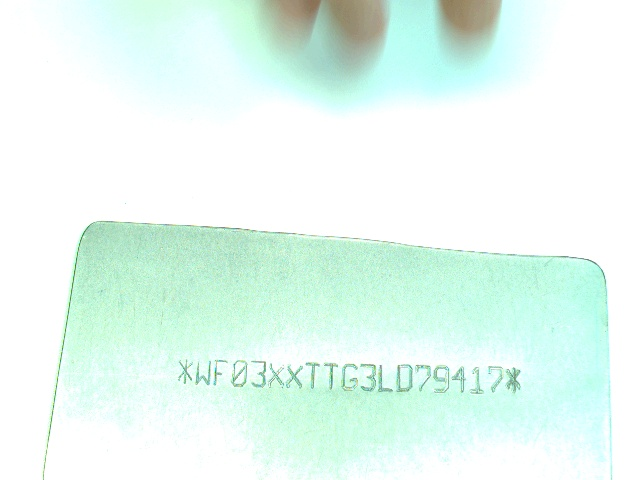0: (231, 359, 248, 388)
1: (469, 365, 486, 395)
3: (249, 359, 268, 389), (359, 362, 377, 393)
4: (451, 366, 468, 395)
7: (414, 361, 433, 394), (485, 364, 505, 395)
9: (433, 365, 451, 395)
d: (395, 362, 415, 394)
f: (212, 357, 229, 387)
g: (340, 360, 360, 392)
l: (377, 363, 394, 394)
t: (304, 361, 322, 391), (322, 360, 339, 390)
w: (194, 359, 212, 386)
x: (286, 361, 305, 390), (267, 361, 286, 388)
